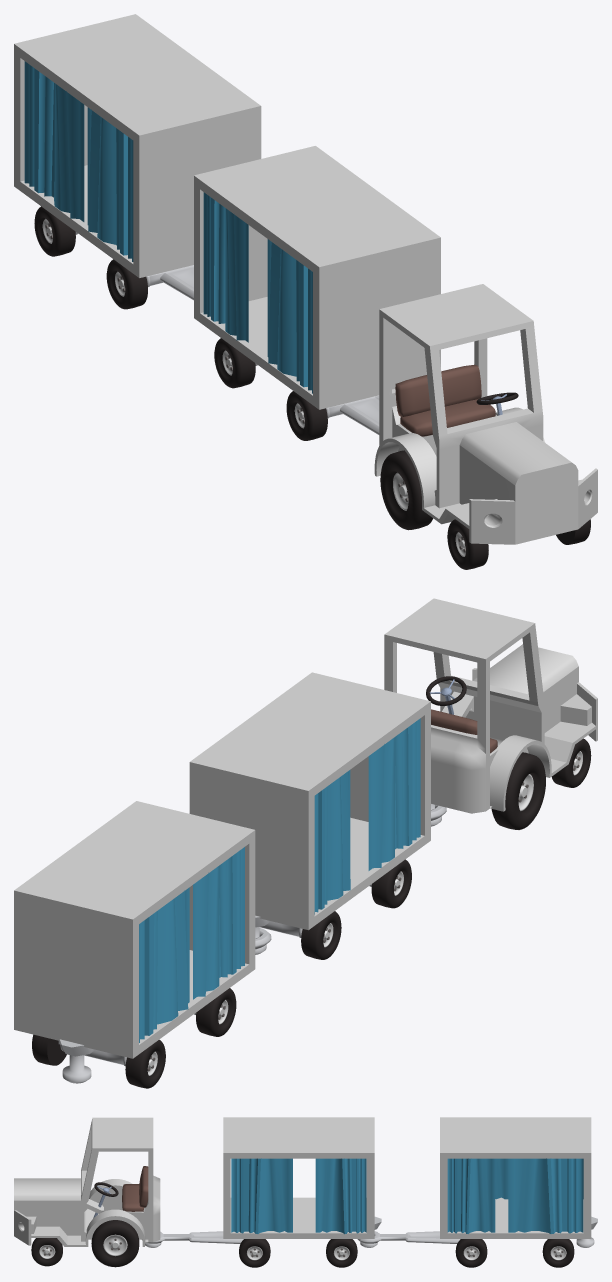
3 views of the same model, one above another, from view 1: azimuth 30°, elevation 25°; view 2: azimuth 150°, elevation 25°; view 3: azimuth 270°, elevation 25° (orthographic). The views are drawn at different scales.
Parts seen in each view (by area): view 1: BaggageCar_Curtain_07.002; view 2: BaggageCar_Curtain_07.002; view 3: BaggageCar_Curtain_07.002.
Part boxes in pixels (x1,y1,x2,y2): BaggageCar_Curtain_07.002: [14, 14, 597, 569]; BaggageCar_Curtain_07.002: [14, 598, 597, 1088]; BaggageCar_Curtain_07.002: [14, 1117, 597, 1267].
Bounding box in the file's own units: 76.62 × 106 × 479.
